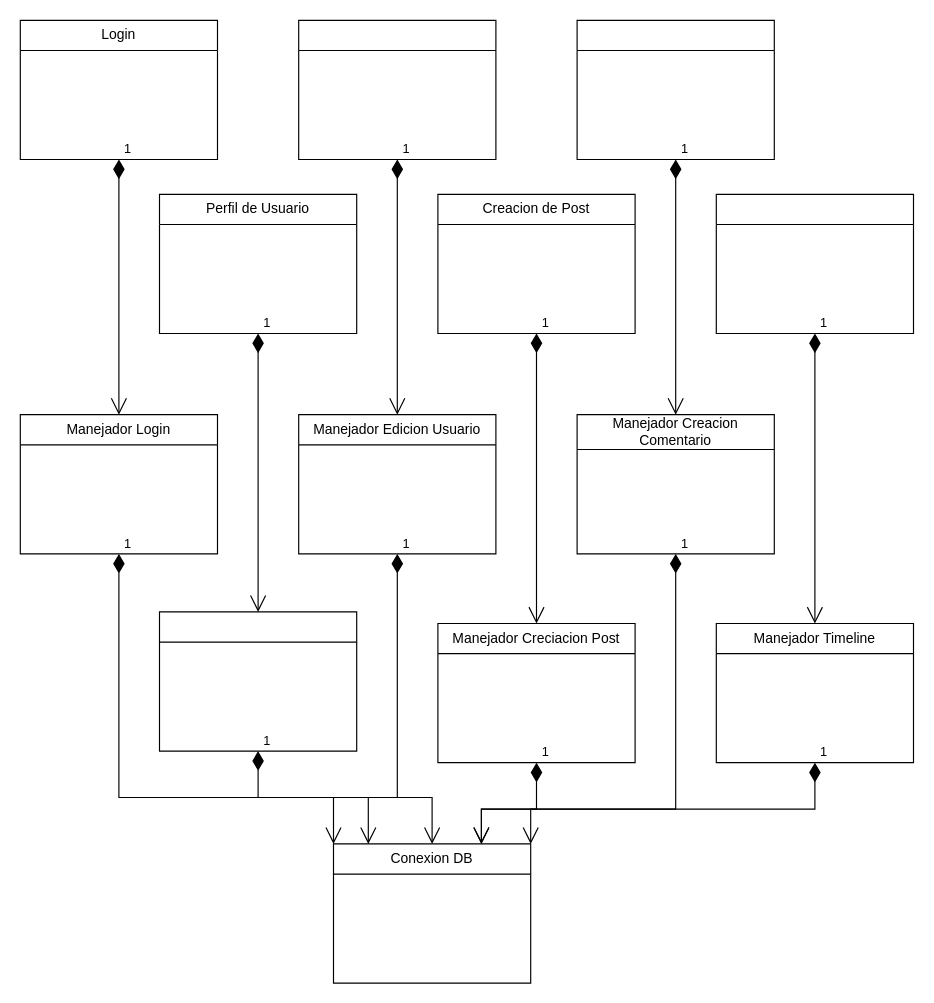
The diagram is 934 pixels wide and 1003 high, and some of its shapes have lost their labels. Here are the shapes that lost their labels. From the top down, the box of each, then its label:
(298, 19, 496, 160): Edicion de Usuario
(576, 19, 774, 160): Crear Comentario Usuario
(715, 193, 913, 334): Timeline
(158, 611, 357, 751): Manejador Perfil de Usuario
